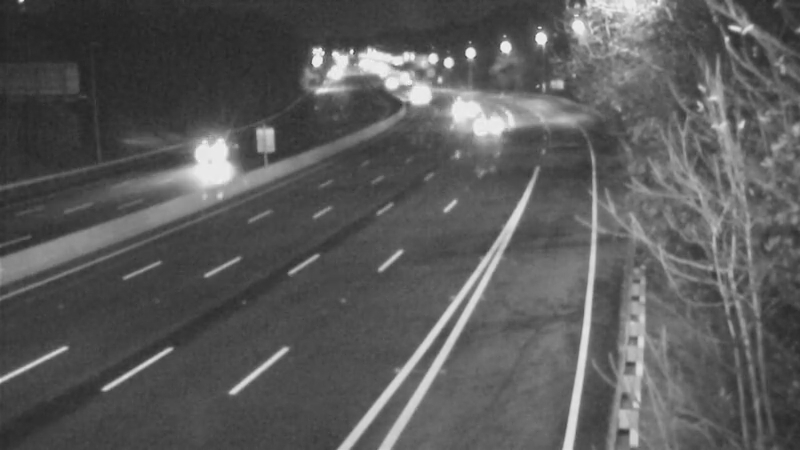vehicle: (173, 113, 253, 193), (400, 70, 450, 120), (433, 83, 483, 133), (453, 102, 503, 152)
